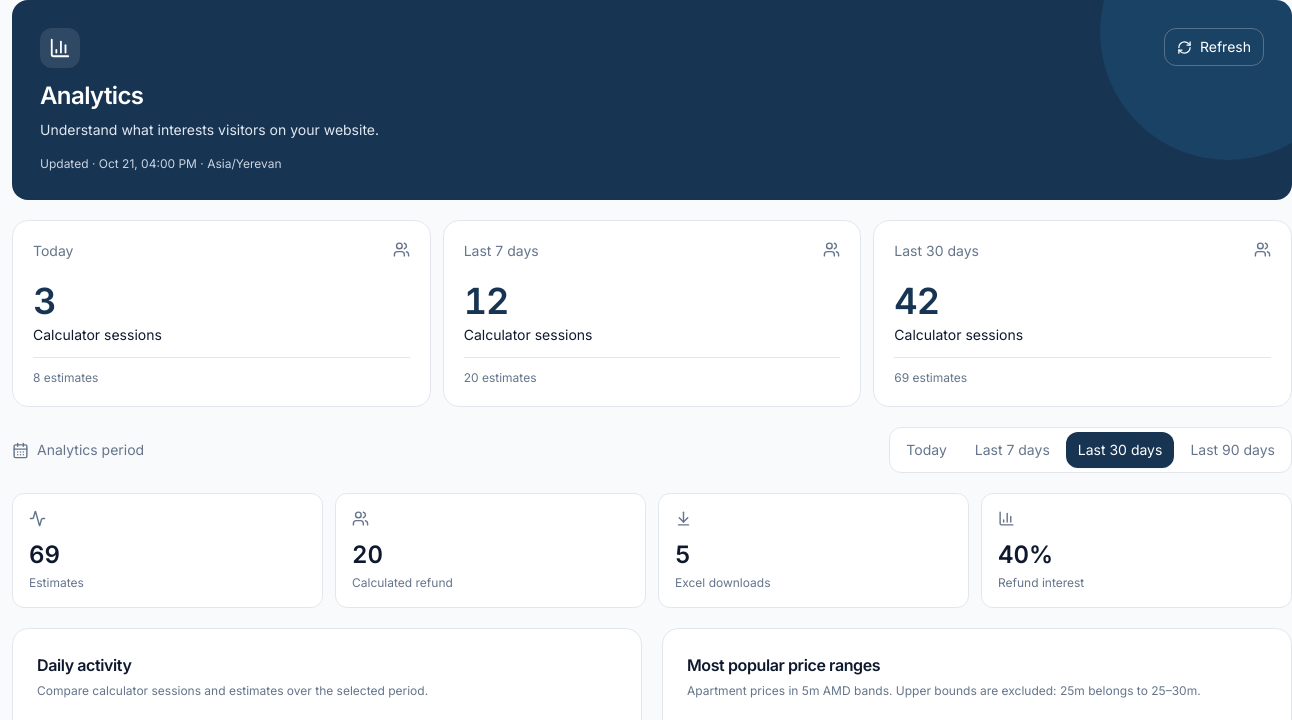
Test: requests the selected period and replaces a failed report with an error
Check: the text "3" is shown, box 33,279 -> 55,323
Step 1. Click the button "Last 7 days" → [1012, 450], box 963,432 -> 1062,468
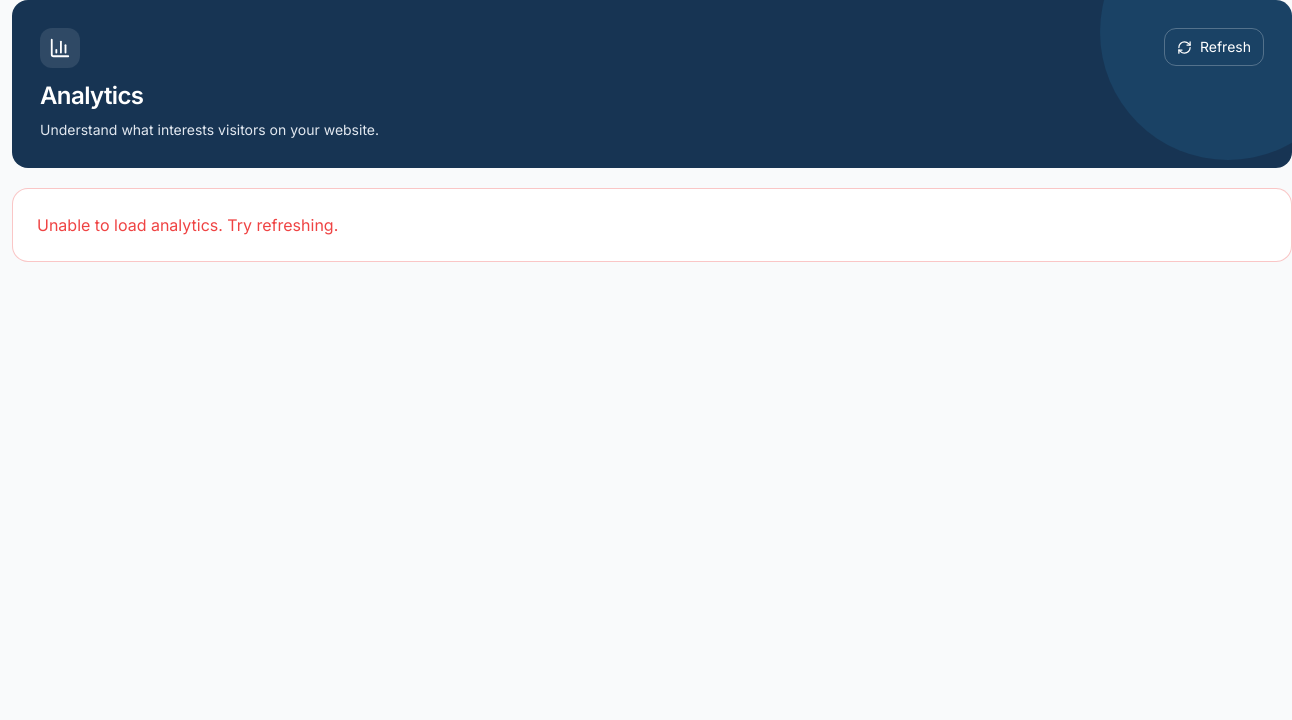
Check: the message shows "Unable to load analytics", box 37,215 -> 338,235
Check: the text with test id "usage-30" is gone
